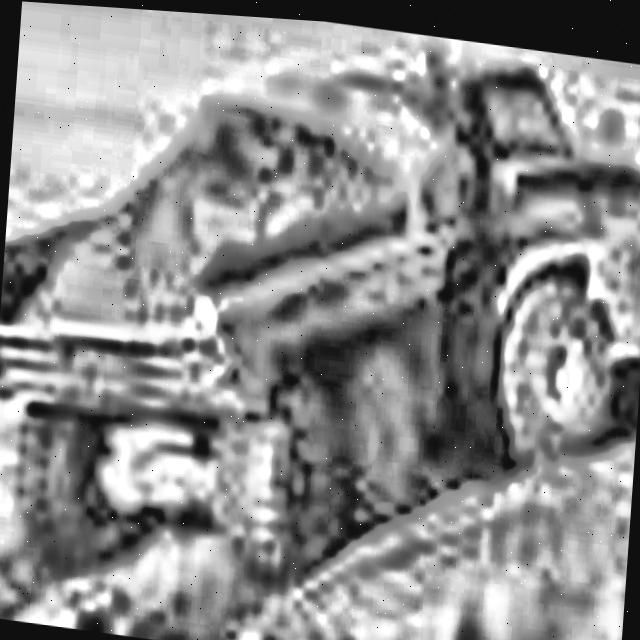dump_truck: (0, 0, 640, 631)
